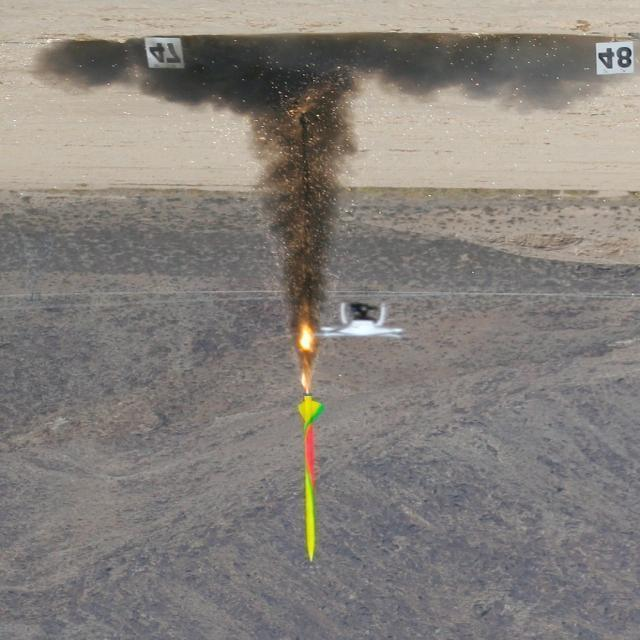missile: (292, 385, 328, 563)
